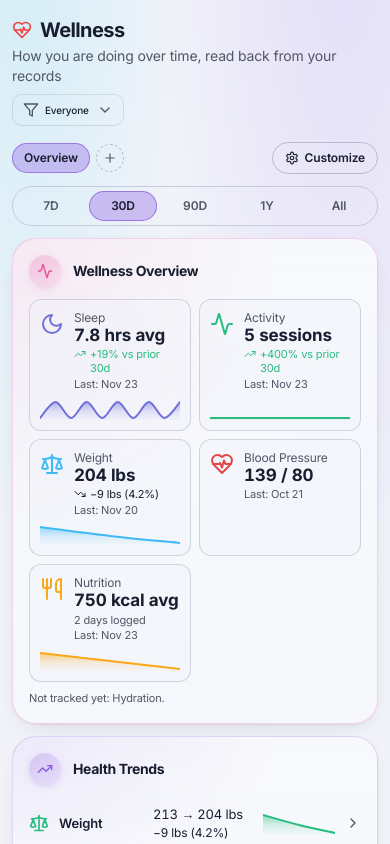
it: the time range is a view › changes what the cards describe and is not saved
Expected: the text "7.8 hrs avg" is shown, [74,325,180,346]
Click the tab with test id "wellness-range-7d": {"x": 51, "y": 206} [17,191,85,221]
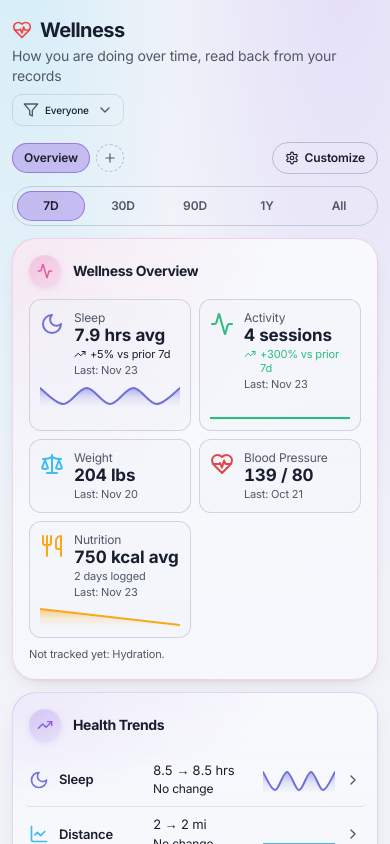
Expected: the text with test id "wellness-tile-weight-value" reads "204 lbs", [74,464,135,484]
Result: the text with test id "wellness-tile-sleep-value" reads "7.9 hrs avg" at [74,325,165,345]
Result: the element with test id "wellness-tile-weight-delta" is gone
Click the tab with test id "wellness-range-all": {"x": 339, "y": 206} [305,191,373,221]
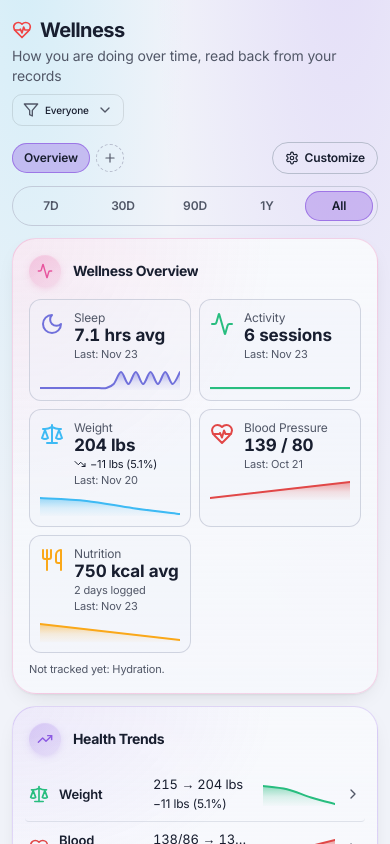
Result: the link with test id "wellness-trend-weight" shows "215 → 204 lbs" at [25,767,365,822]
